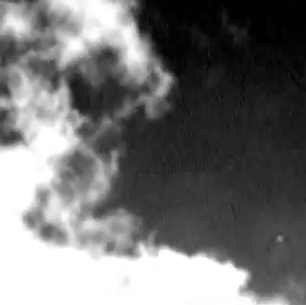Target: (277, 236, 281, 241)
